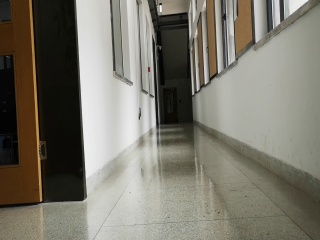room: (1, 2, 90, 204)
